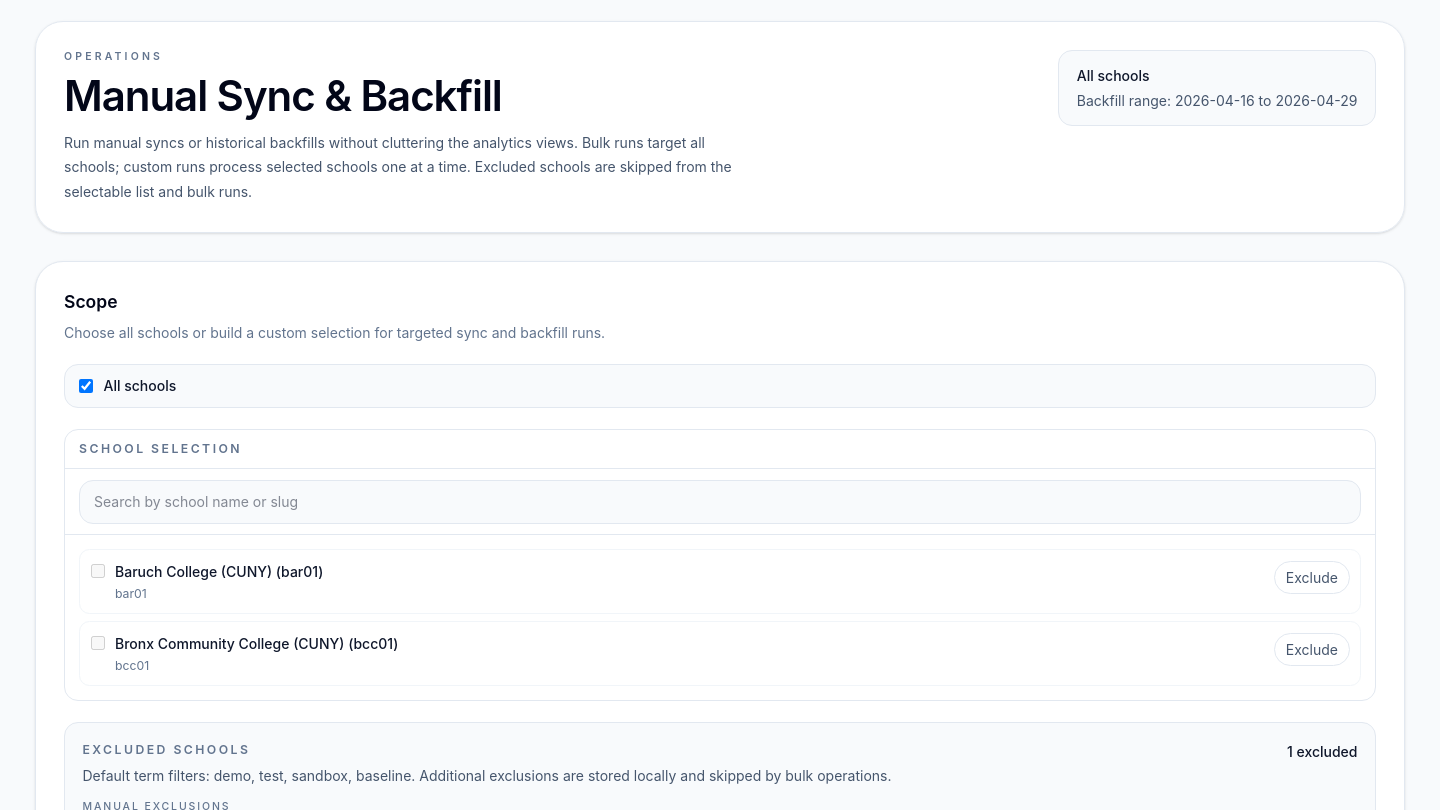
it: Operations › runs multi-school sync sequentially and invalidates dependent queries
Click the checkbox with id "operations-all-schools" at (86, 386), box [79,378,93,392]
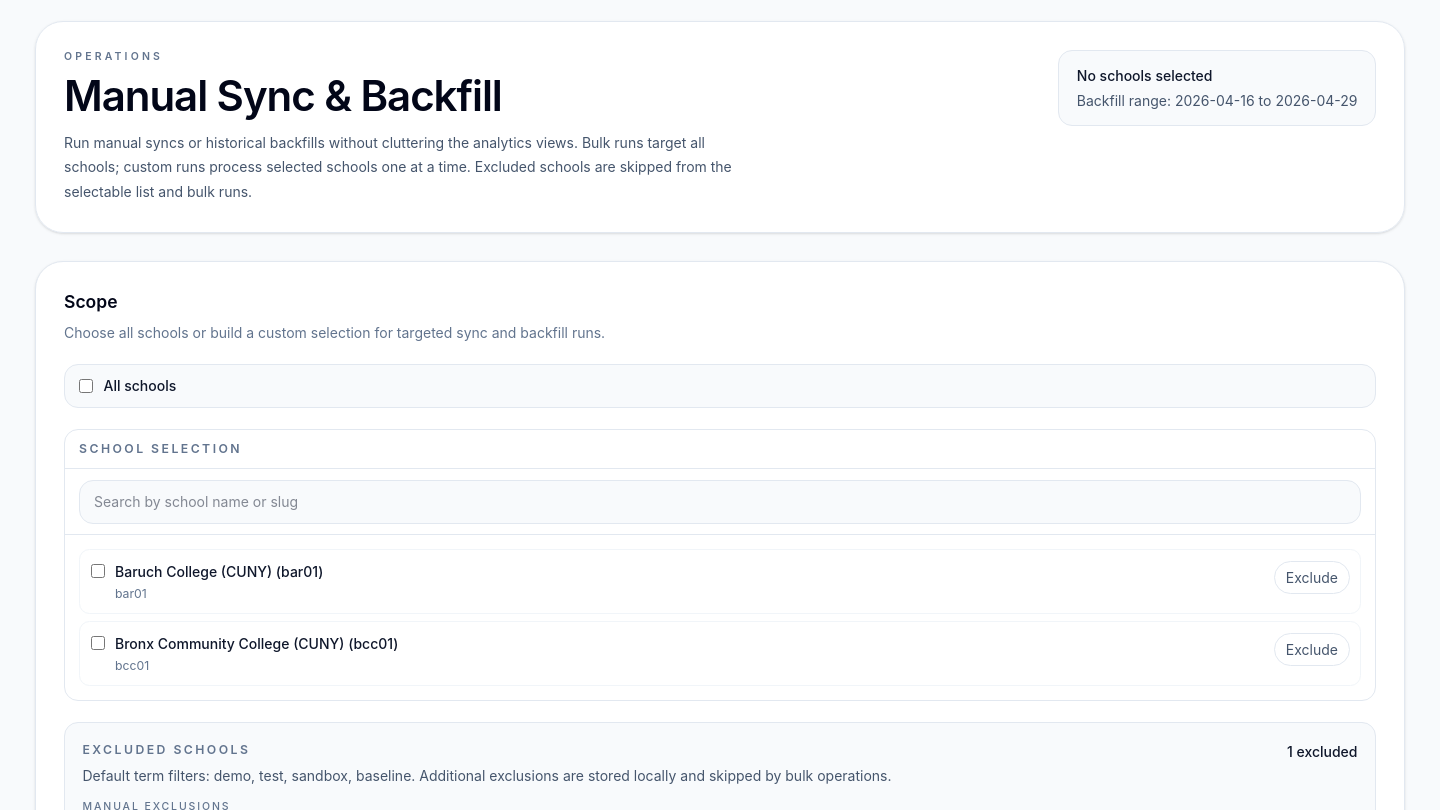
Click the checkbox labelled "Baruch College (CUNY) (bar01) bar01 Exclude" at (98, 571), box [90,564,104,578]
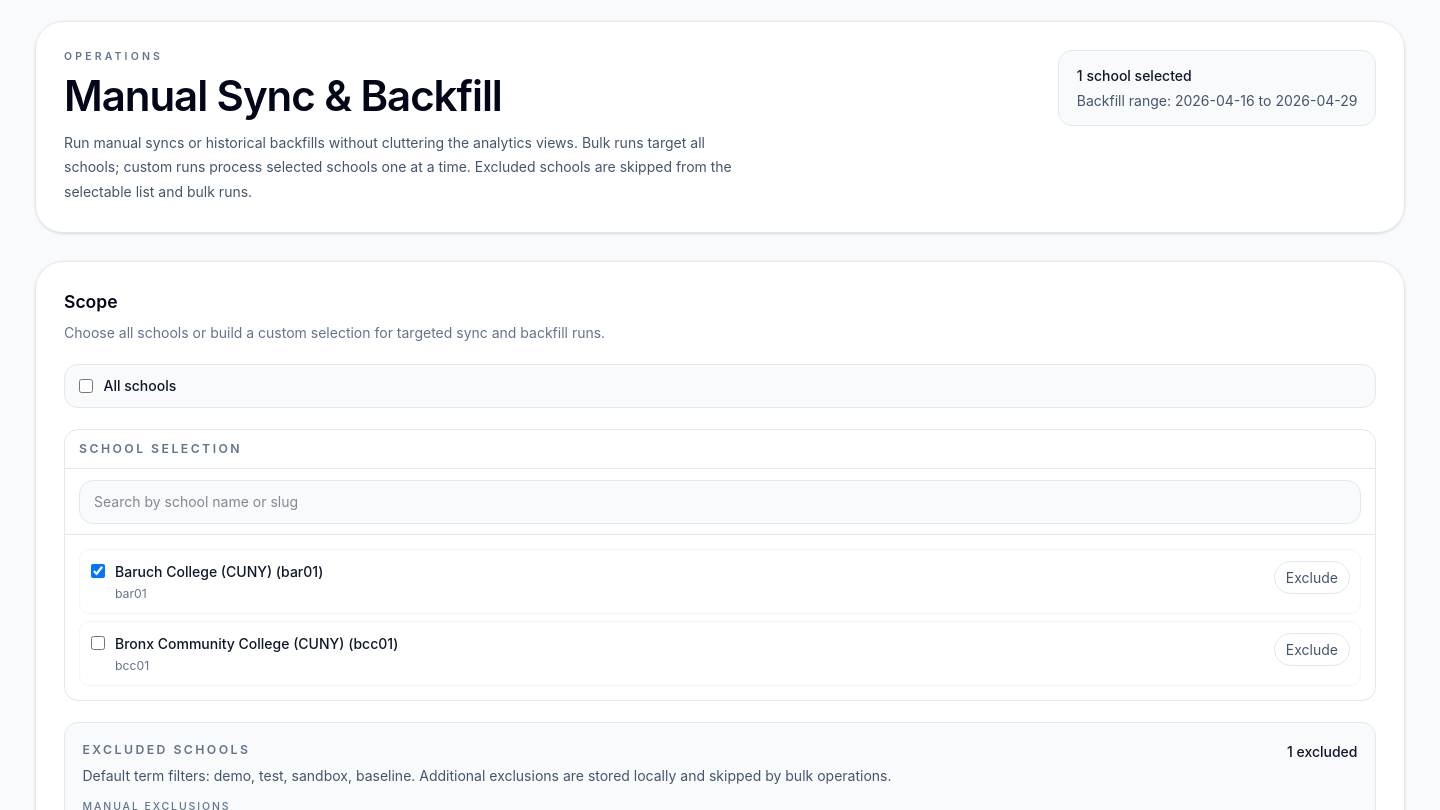
Click the checkbox labelled "Bronx Community College (CUNY) (bcc01) bcc01 Exclude" at (98, 643), box [90,636,104,650]
(page scrolled)
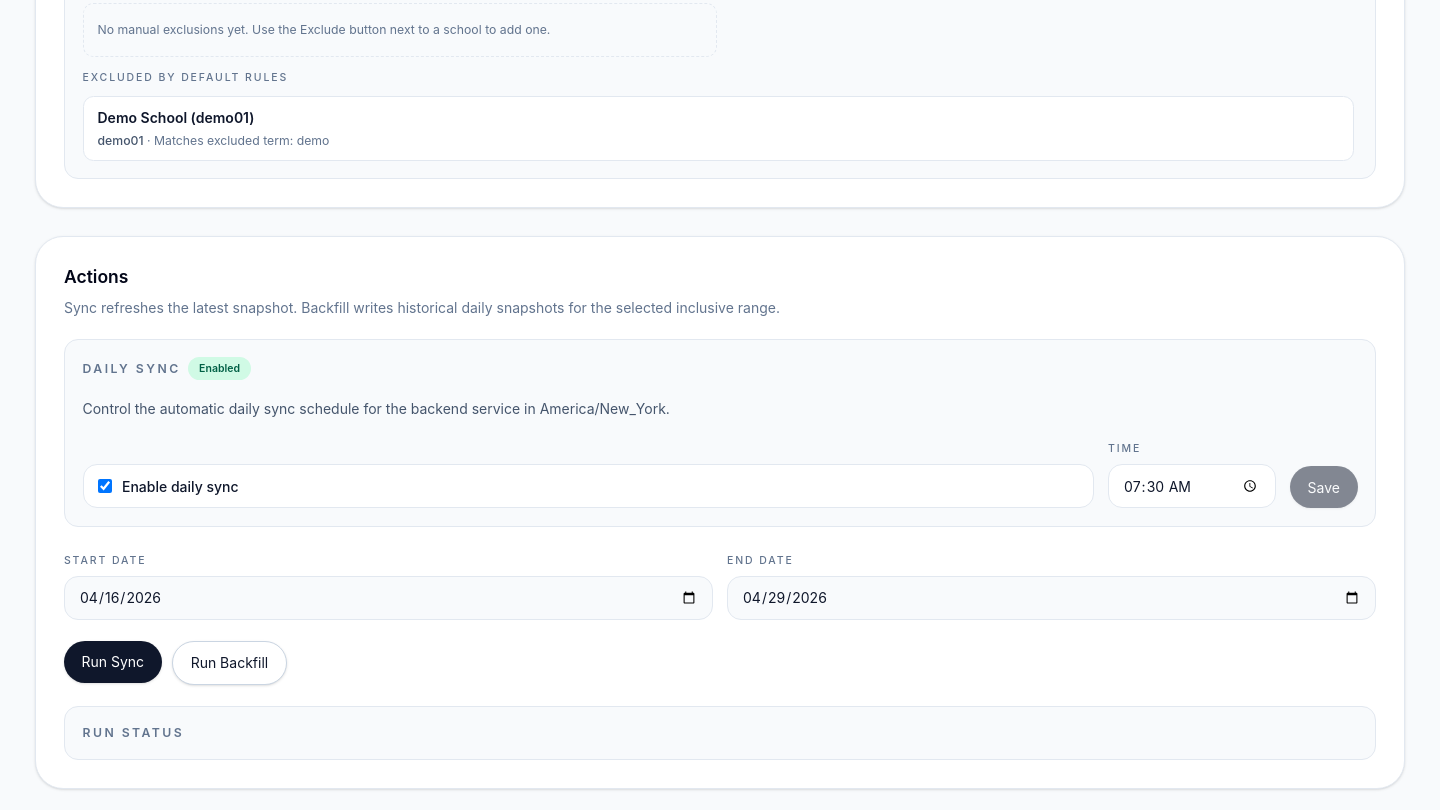
Click the button "Run Sync" at (113, 662), box [64,640,162,682]
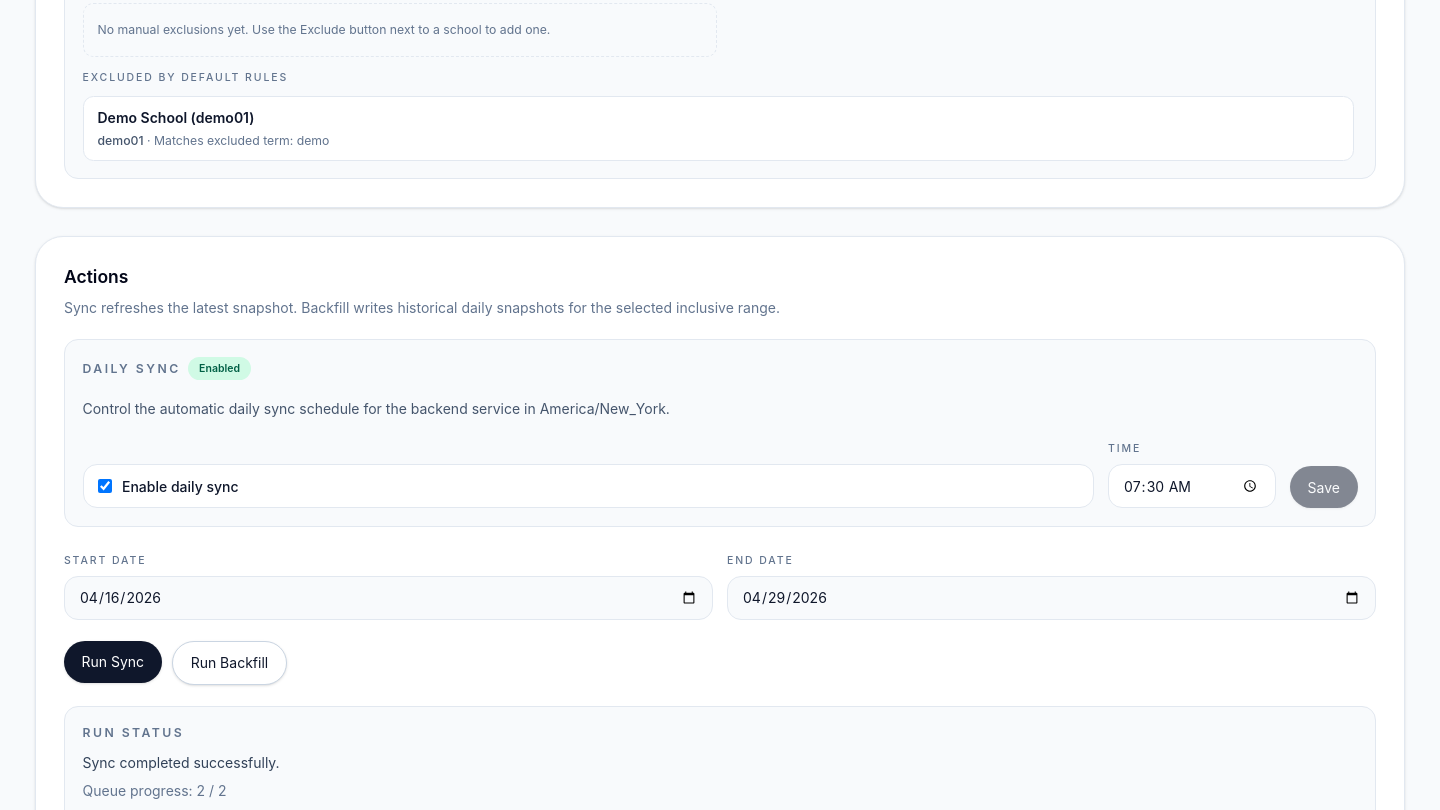
Check: the text "Queue progress: 2 / 2" is shown, box [82,782,227,799]
